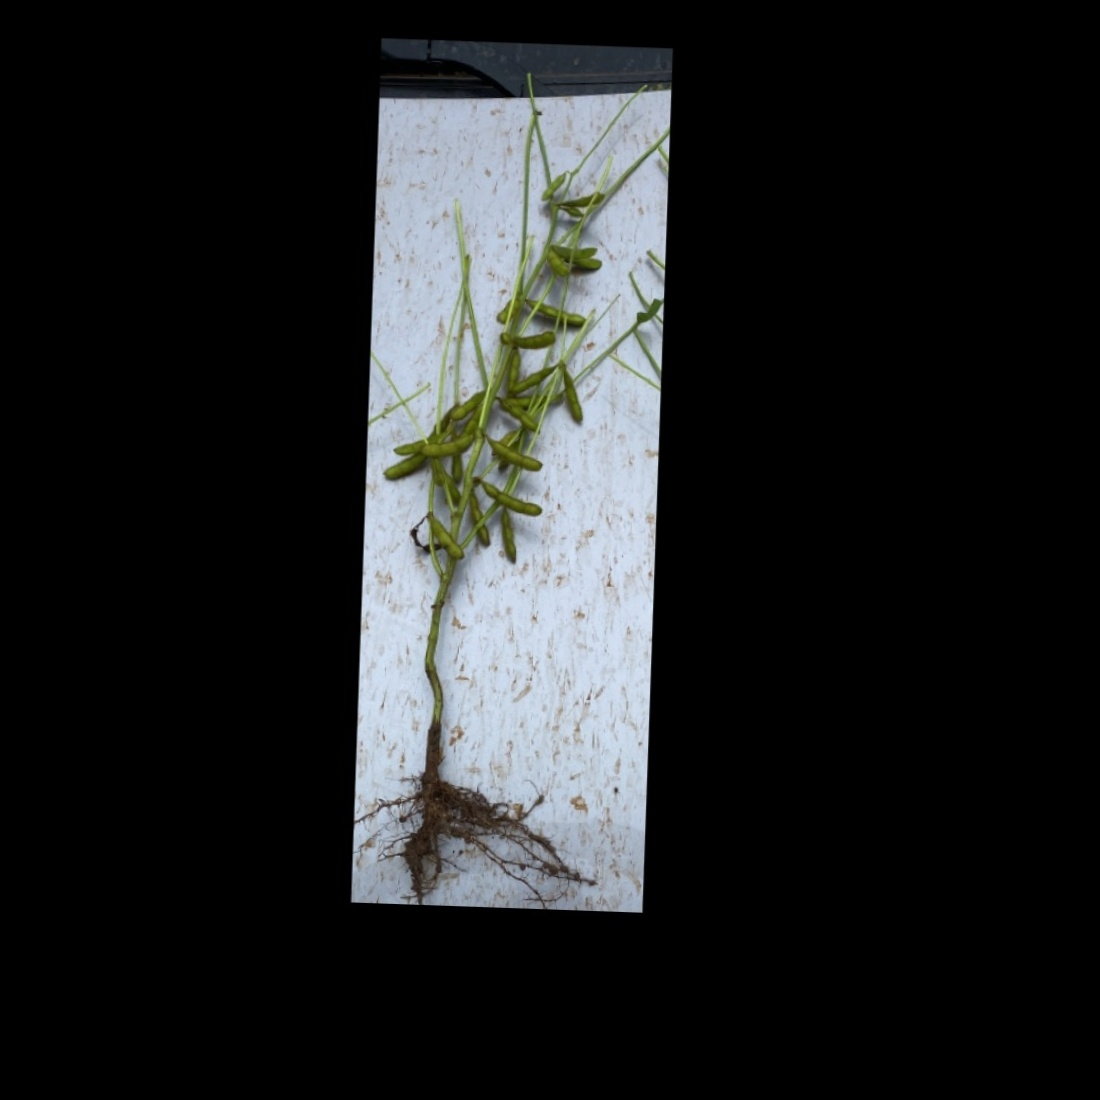pod: (483, 480, 543, 518), (526, 294, 587, 325), (425, 517, 466, 563), (489, 442, 542, 475), (514, 361, 561, 395), (423, 433, 479, 458), (498, 510, 522, 568), (468, 496, 492, 550), (562, 374, 586, 423), (513, 326, 560, 352), (451, 390, 487, 421), (383, 453, 424, 479), (539, 168, 567, 203), (461, 403, 485, 439), (504, 349, 520, 393), (447, 454, 465, 483)
soy: (366, 108, 637, 889)
